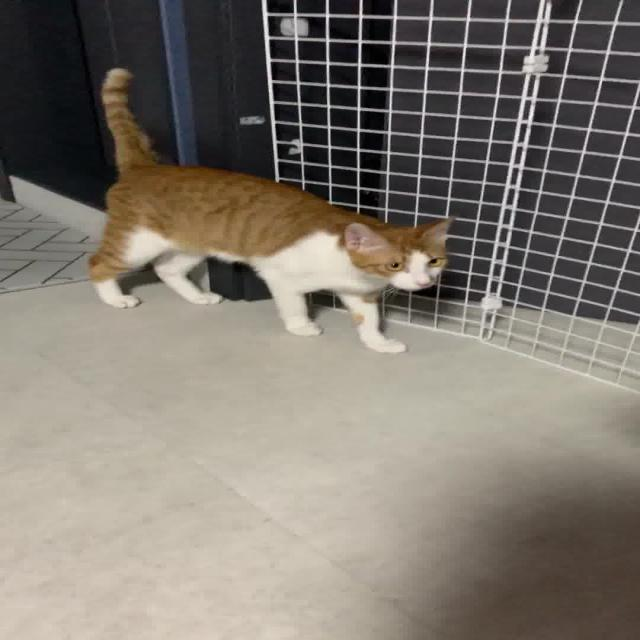cat: (67, 56, 466, 371)
